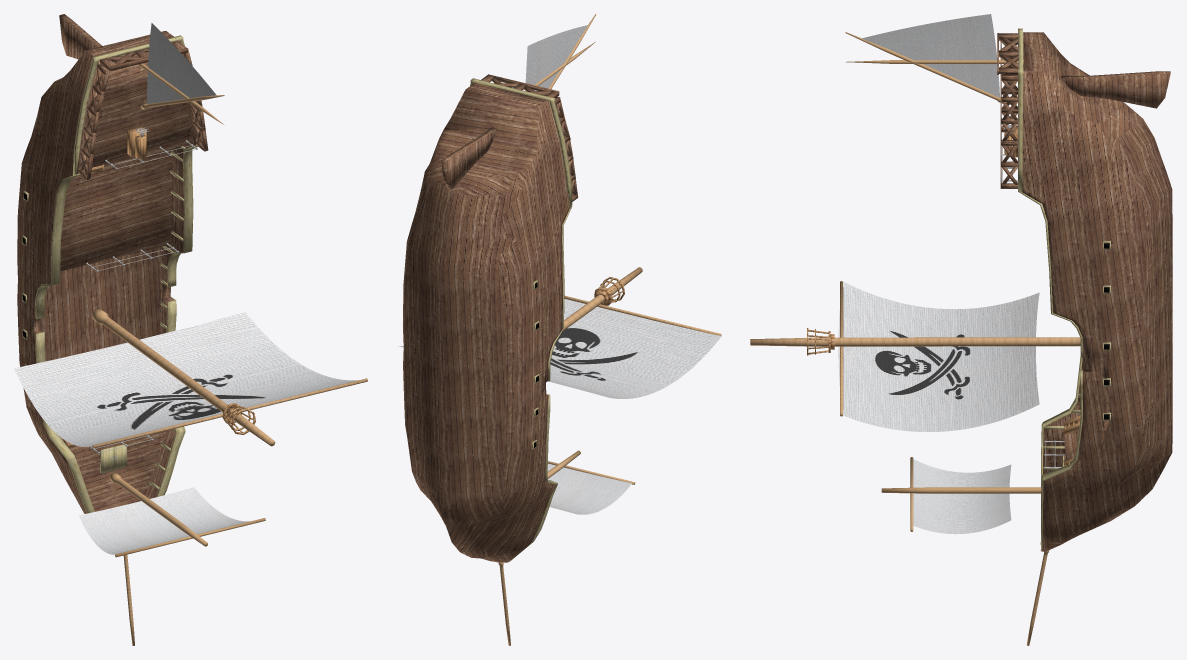
Rendered from mo2del.fbx.
The picture shows the model from 3 angles, left to right: view 1: azimuth 30°, elevation 25°; view 2: azimuth 150°, elevation 25°; view 3: azimuth 270°, elevation 25°; orthographic projection. The views are drawn at different scales.
Visible parts, largest first — view 1: done_kadlub, zagiel2, done_porecze, zagiel1, done_maszty, zagiel3, done_porecze2, done_ster, done_porecze3, done_zebra2, done_drzwi, done_ster_podstawa (+1 smaller); view 2: done_kadlub, zagiel2, zagiel1, done_maszty, zagiel3, done_porecze, done_ster, done_porecze2, done_gniazdo; view 3: done_kadlub, zagiel2, done_maszty, zagiel3, zagiel1, done_ster, done_porecze2, done_porecze.
Boxes of the visible parts, box(x1,y1,x2,y2) form: done_kadlub: box(17, 31, 197, 513); zagiel2: box(14, 312, 359, 446); done_porecze: box(35, 35, 197, 513); zagiel1: box(78, 487, 249, 554); done_maszty: box(92, 63, 367, 645); zagiel3: box(147, 23, 216, 103); done_porecze2: box(78, 41, 208, 179); done_ster: box(59, 14, 102, 59); done_porecze3: box(86, 140, 197, 460); done_zebra2: box(22, 146, 185, 490); done_drzwi: box(100, 157, 135, 473); done_ster_podstawa: box(127, 126, 146, 159); done_kadlub: box(403, 82, 569, 562); zagiel2: box(398, 299, 721, 398); zagiel1: box(547, 463, 631, 514); done_maszty: box(498, 14, 721, 645); zagiel3: box(525, 25, 587, 91); done_porecze: box(470, 78, 572, 559); done_ster: box(441, 127, 496, 189); done_porecze2: box(481, 74, 578, 201); done_gniazdo: box(594, 277, 624, 305); done_kadlub: box(1018, 32, 1172, 551); zagiel2: box(838, 281, 1039, 431); done_maszty: box(750, 32, 1080, 645); zagiel3: box(861, 14, 999, 97); zagiel1: box(913, 459, 1011, 534); done_ster: box(1061, 71, 1170, 108); done_porecze2: box(997, 33, 1023, 188); done_porecze: box(1018, 28, 1082, 550).
Bounding box in the file's own units: 141 × 309 × 188.
Materials: 16 (16 with a texture image).
